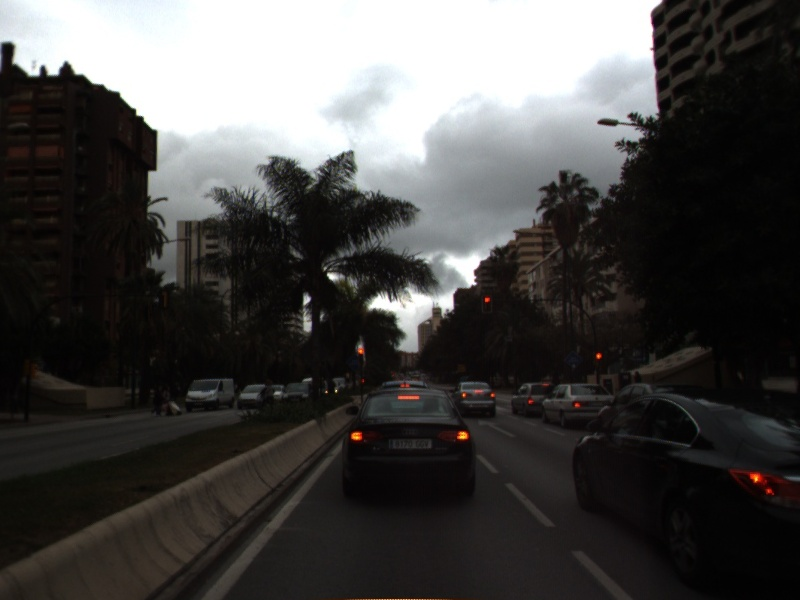STRAIGHT: (476, 416, 519, 439)
